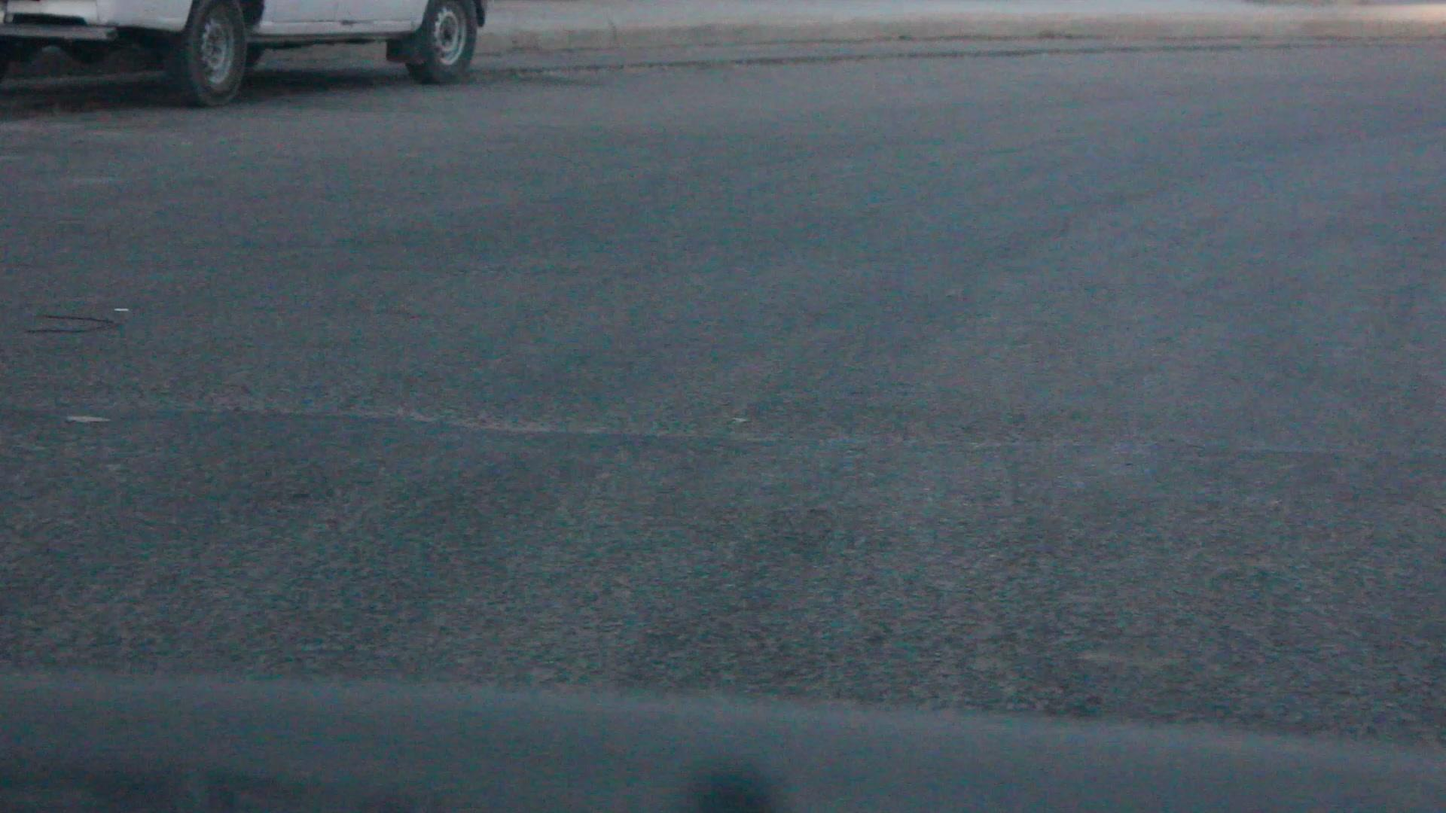Bump: (0, 398, 1445, 753)
